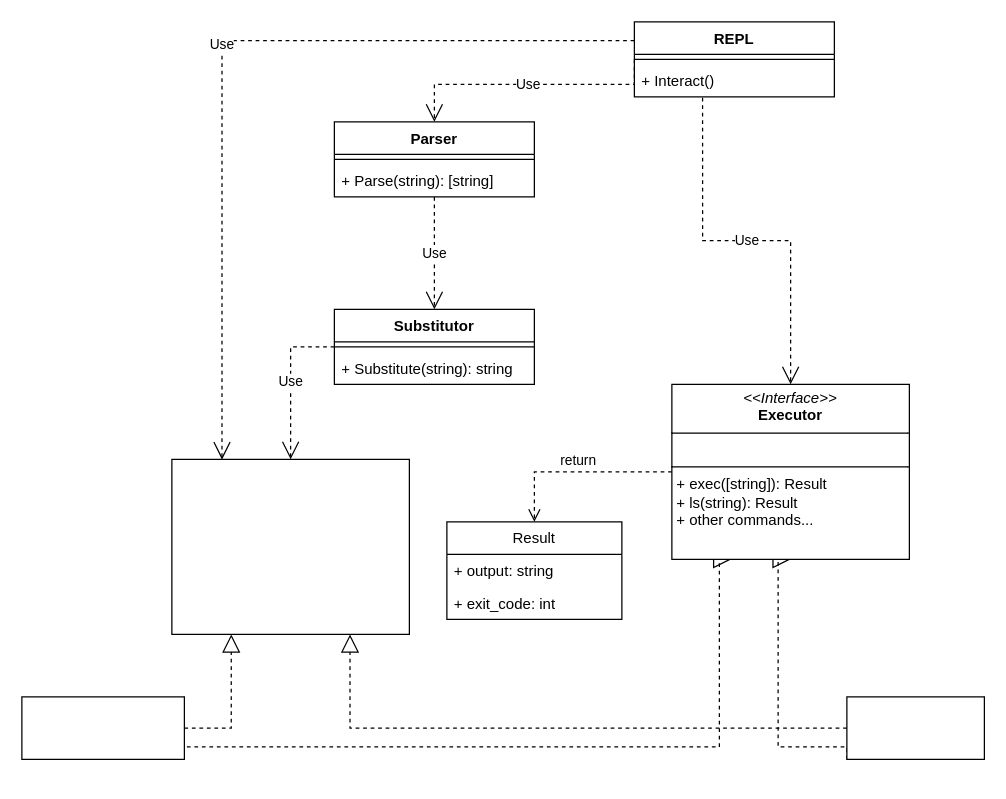
Some shapes in this 1006 by 799 pixel diagram are drawn without their labels. The centre of each missing label's shape, as x and y in pixels:
"<<Interface>> Environment + Get(string): string + Set(string, string)" belongs at pixel 290 546.
"LinuxEnvironment" belongs at pixel 915 727.
"WindowsEnvironment" belongs at pixel 102 727.
